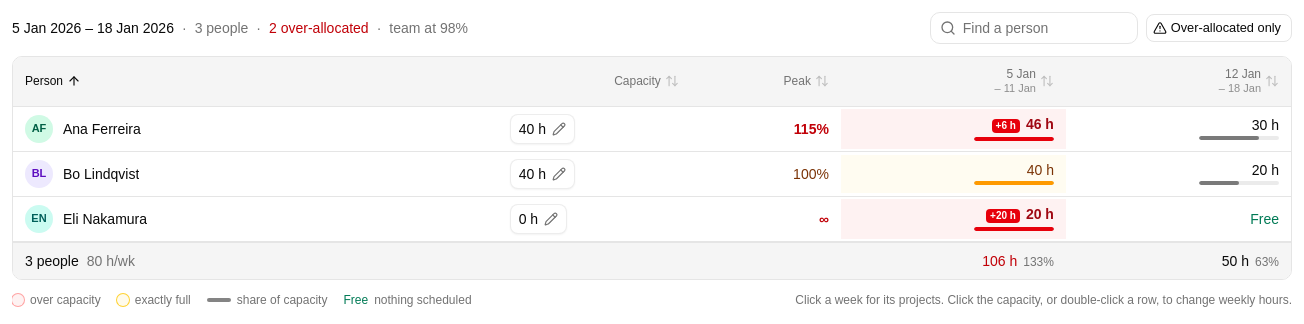
CapacityGrid › flags every over-allocated week, including hours against zero capacity
The image size is (1304, 324).
Check: the text "2 over-allocated" is shown, box [269, 20, 369, 36]
Check: the text "+6 h" is shown, box [992, 119, 1020, 133]
Click the button "Over-allocated only".
click(1219, 28)  # box [1146, 14, 1292, 42]
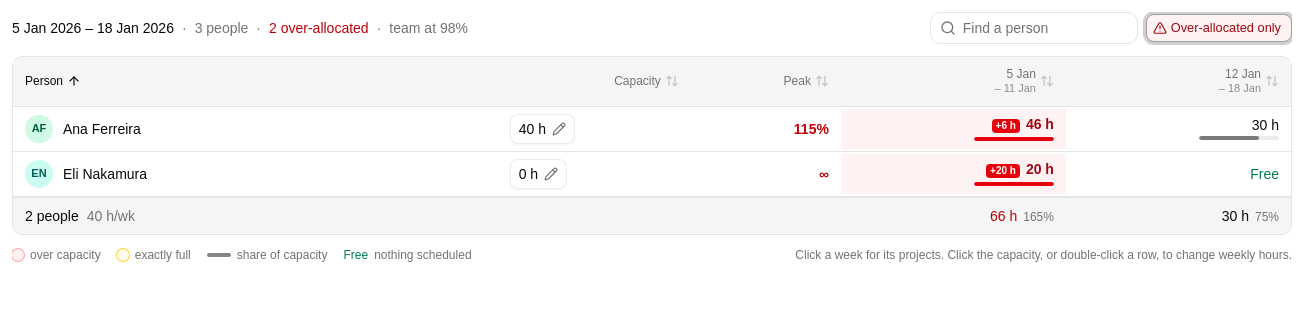
Check: the row "AF Ana Ferreira 40 h 115% +6 h 46 h 30 h" is shown, box [13, 107, 1291, 152]
Check: the text "Bo Lindqvist" is gone
